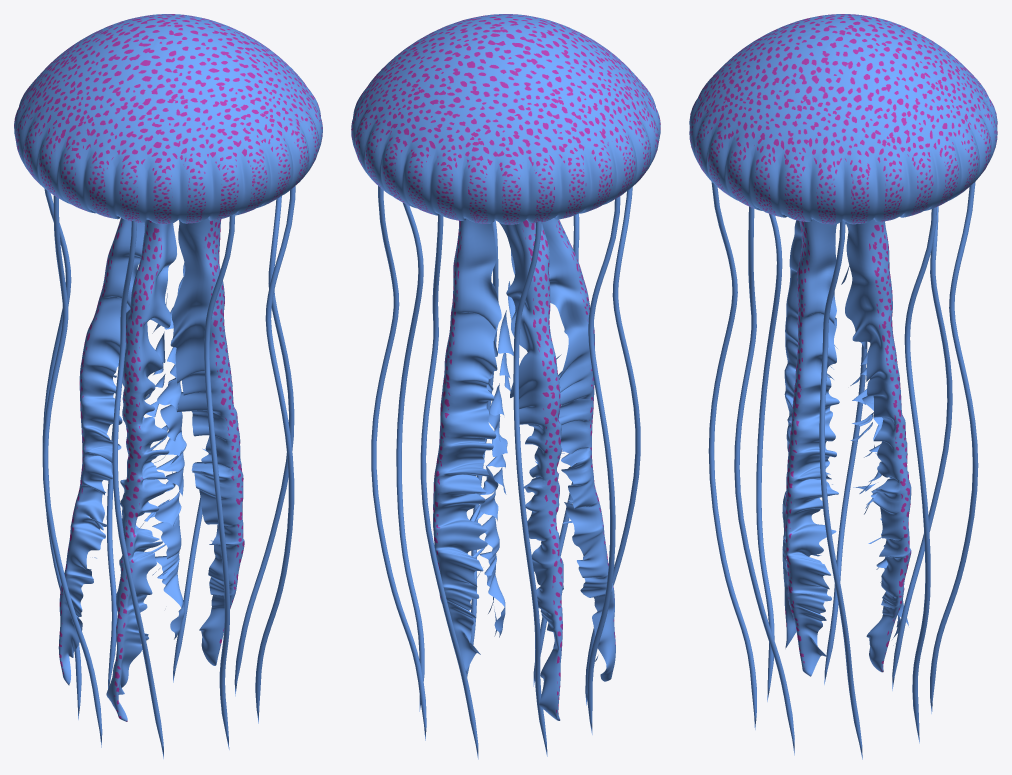
File: jellyfish.glb
3 views of the same model, side by side, from view 1: azimuth 30°, elevation 25°; view 2: azimuth 150°, elevation 25°; view 3: azimuth 270°, elevation 25° (orthographic).
Visible parts, largest first — view 1: Cylinder.001, BezierCurve.001; view 2: Cylinder.001, BezierCurve.001; view 3: Cylinder.001, BezierCurve.001.
Part boxes in pixels (x1,y1,x2,y2): Cylinder.001: [14, 14, 322, 721]; BezierCurve.001: [42, 186, 295, 758]; Cylinder.001: [351, 14, 660, 720]; BezierCurve.001: [371, 186, 640, 759]; Cylinder.001: [689, 14, 997, 676]; BezierCurve.001: [708, 182, 978, 759].
Bounding box in the file's own units: 0.9188 × 2.29 × 0.9188.
1 material, 1 textured.
